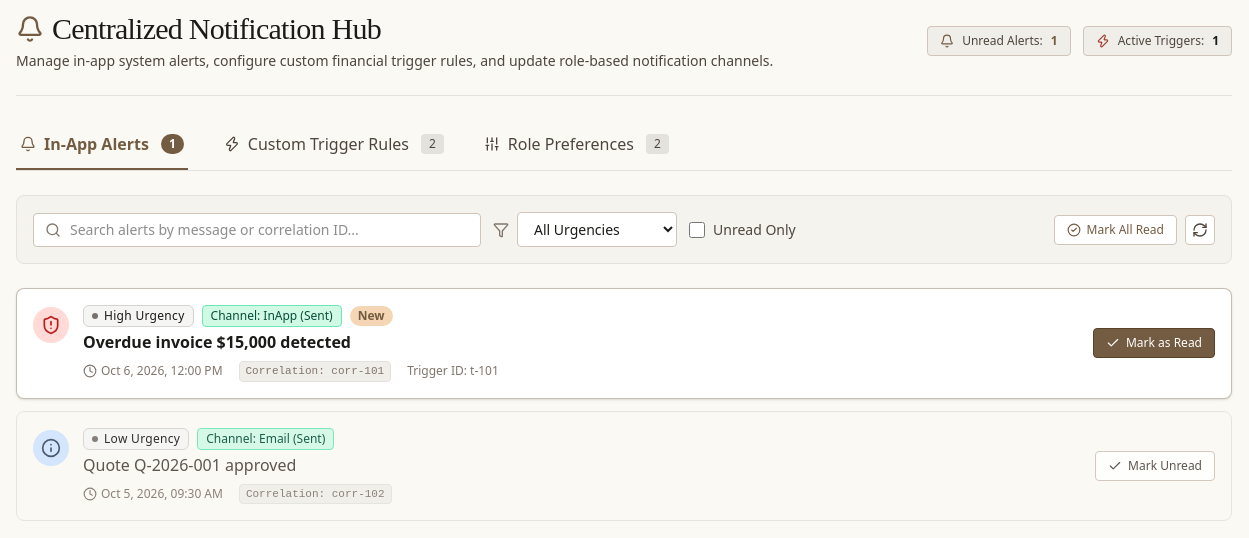
NotificationHub Component [FR-5, FR-6, FR-7] › In-App Alerts Tab [FR-5] › marks all notifications as read when "Mark All Read" clicked
Click the button with test id "mark-all-read-btn" at (1115, 230), box [1054,214,1177,244]
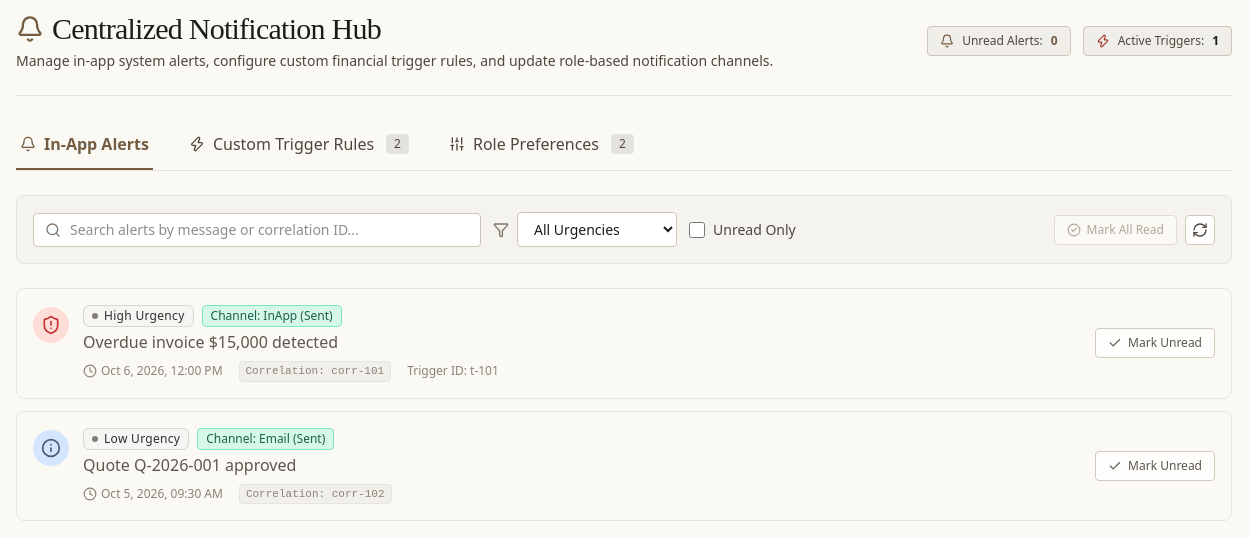
Check: the text "New" is gone
